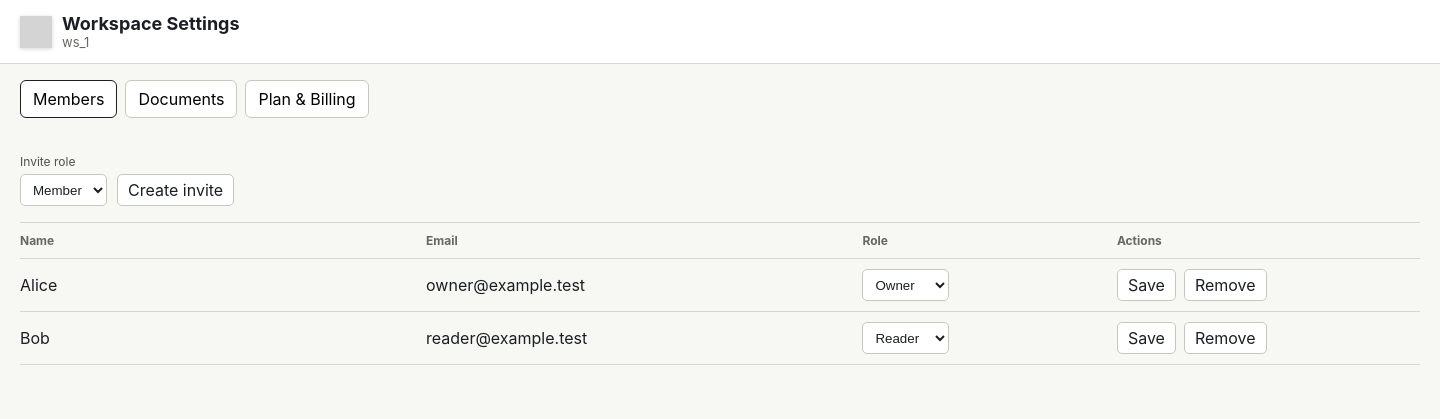
Test: WorkspaceSettings › reverts a role dropdown when the server rejects a member role update
Expected: the text "Bob" is shown, [20,328,50,348]
Select "Owner" in the dropdown with test id "role-user_reader" at (906, 338), box [862,322,949,354]
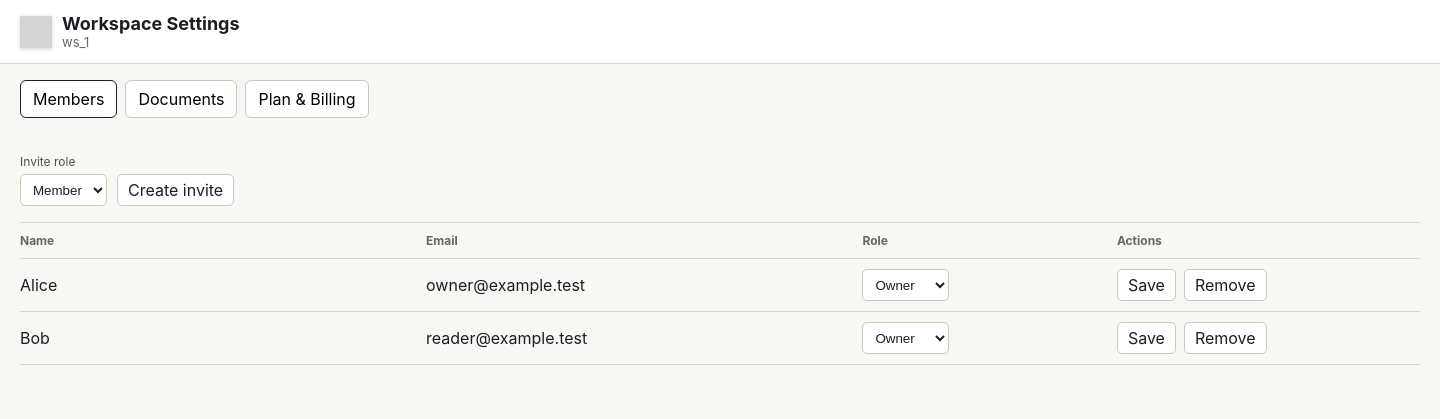
Click the button with test id "save-user_reader" at (1146, 338), box [1117,322,1176,354]
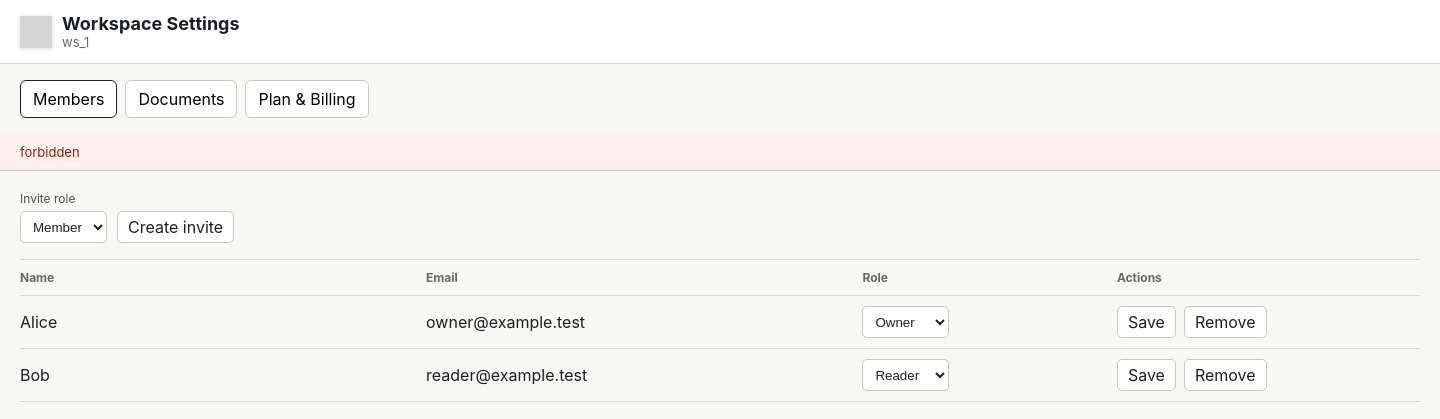
Expected: the message reads "forbidden", [20,144,80,160]
